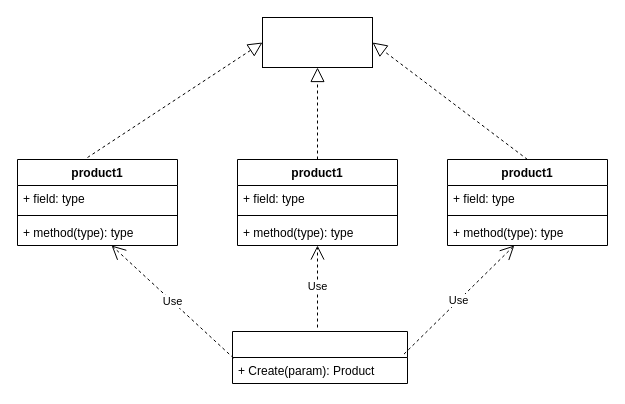
Some shapes in this 625 by 404 pixel diagram are drawn without their labels. Each missing label, with the box of its shape:
SimpleFactory: (232, 330, 408, 384)
«interface» Product: (262, 16, 372, 68)
